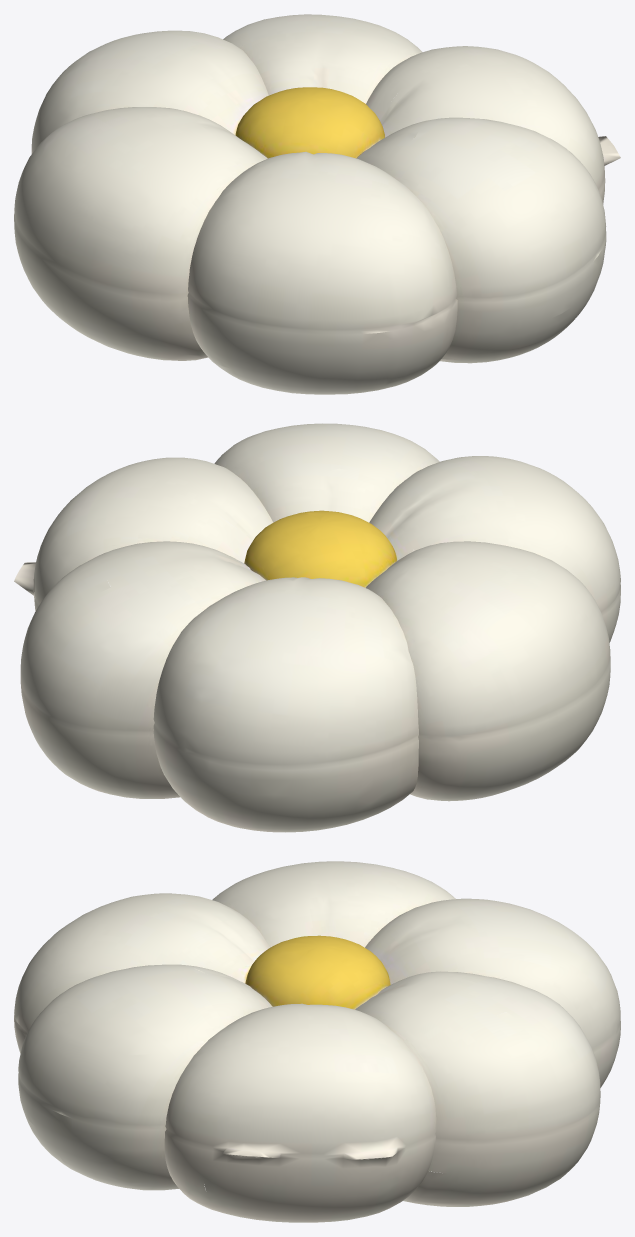
Rendered from cushion-flower.glb.
3 renders of one model, top to bottom at view 1: azimuth 30°, elevation 25°; view 2: azimuth 150°, elevation 25°; view 3: azimuth 270°, elevation 25°, orthographic. The views are drawn at different scales.
Visible parts, largest first — view 1: bcebdb39_fdc6_42b1_8a04_52bea0a92edf; view 2: bcebdb39_fdc6_42b1_8a04_52bea0a92edf; view 3: bcebdb39_fdc6_42b1_8a04_52bea0a92edf.
Part boxes in pixels (x1,y1,x2,y2): bcebdb39_fdc6_42b1_8a04_52bea0a92edf: (14,14,620,394); bcebdb39_fdc6_42b1_8a04_52bea0a92edf: (14,423,620,832); bcebdb39_fdc6_42b1_8a04_52bea0a92edf: (14,861,620,1222).
Size of the model in its own units: 0.9859 by 0.3973 by 1.01.
Materials: 1 (1 with a texture image).
